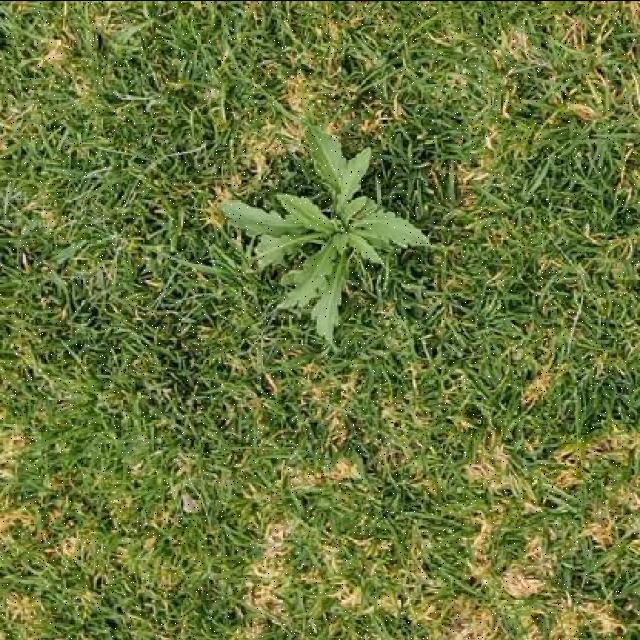weed: (222, 125, 430, 342)
